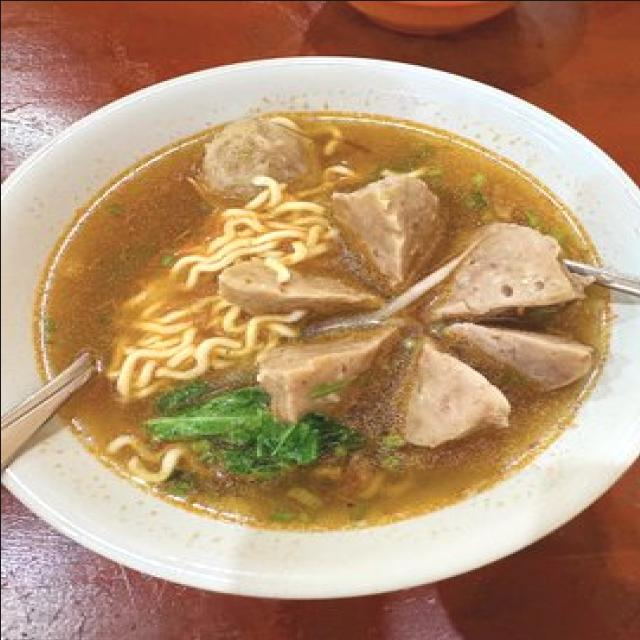bakso: (31, 108, 614, 530)
